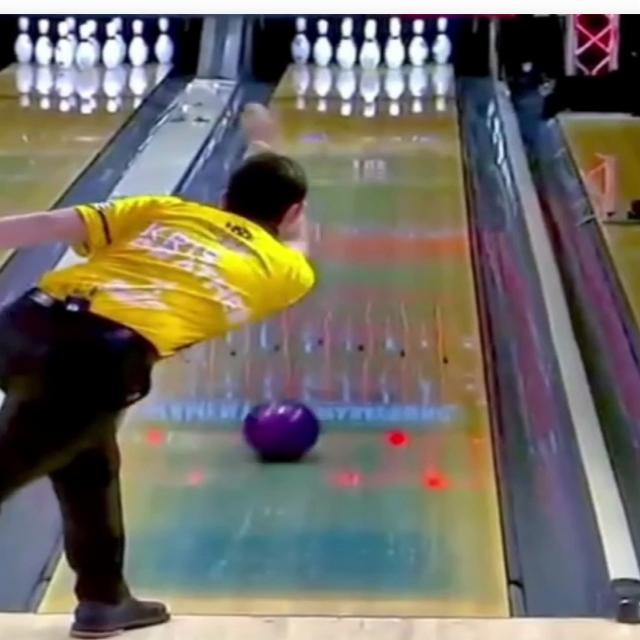alley: (121, 64, 507, 616)
balls: (244, 400, 318, 462)
bottle: (290, 16, 451, 70)
